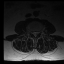CCS_normal: (34, 29, 36, 38)
LFS_normal: (38, 29, 40, 35)
LLS_normal: (36, 30, 38, 35)
RFS_normal: (30, 30, 32, 35)
RLS_normal: (32, 30, 34, 36)
